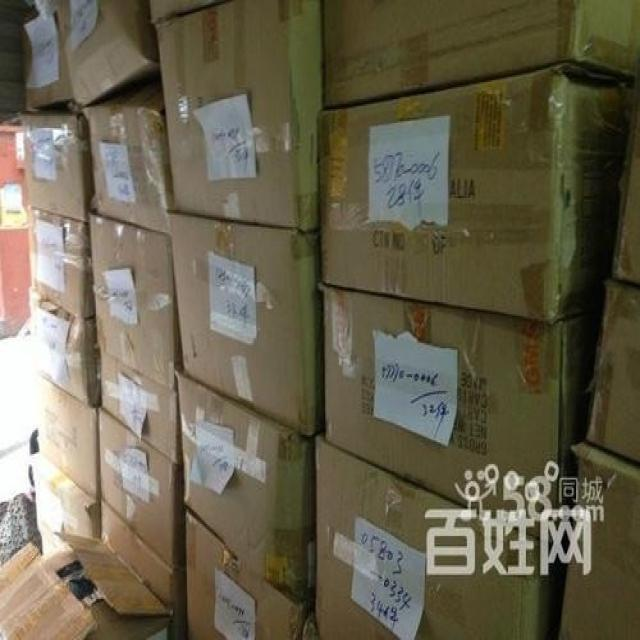box: (319, 63, 635, 324), (319, 282, 602, 544), (314, 432, 573, 640), (156, 0, 324, 232), (168, 212, 324, 437), (323, 0, 640, 108), (175, 369, 316, 601), (0, 532, 170, 640), (186, 509, 315, 640), (556, 439, 640, 640), (88, 212, 182, 389), (96, 408, 187, 568), (86, 75, 174, 236), (100, 500, 187, 640), (58, 0, 161, 108), (586, 276, 640, 464), (100, 352, 183, 464), (29, 288, 101, 406), (35, 374, 101, 498), (24, 109, 92, 224), (28, 208, 95, 317), (28, 452, 101, 551), (612, 60, 640, 283), (22, 10, 74, 113), (150, 0, 215, 22)
